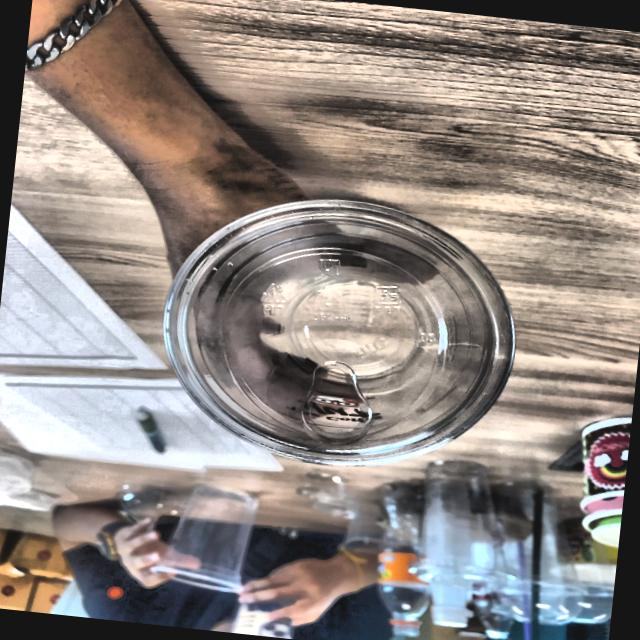plastic cup: (114, 174, 536, 490)
